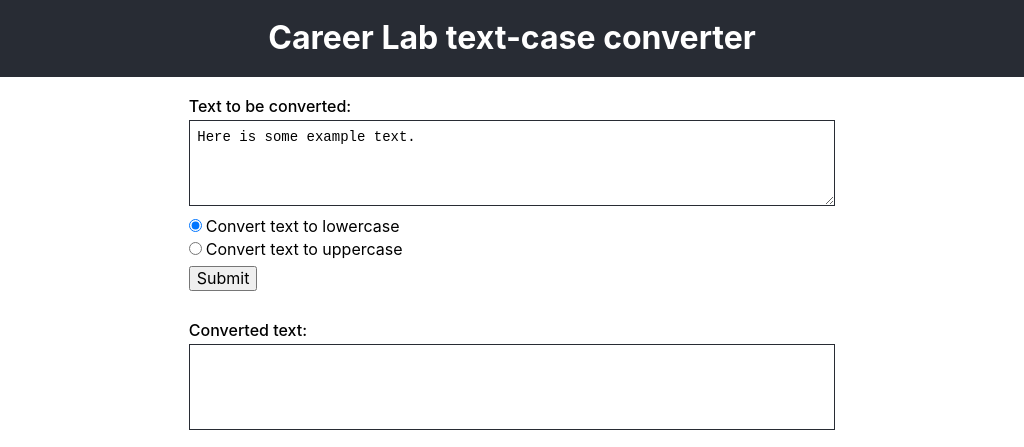
Test: Text-case coverter › should convert the input string into lowercase
Replace the text in the text box labelled "Text to be converted:" with "This is some text." at (512, 163), box [189,120,835,206]
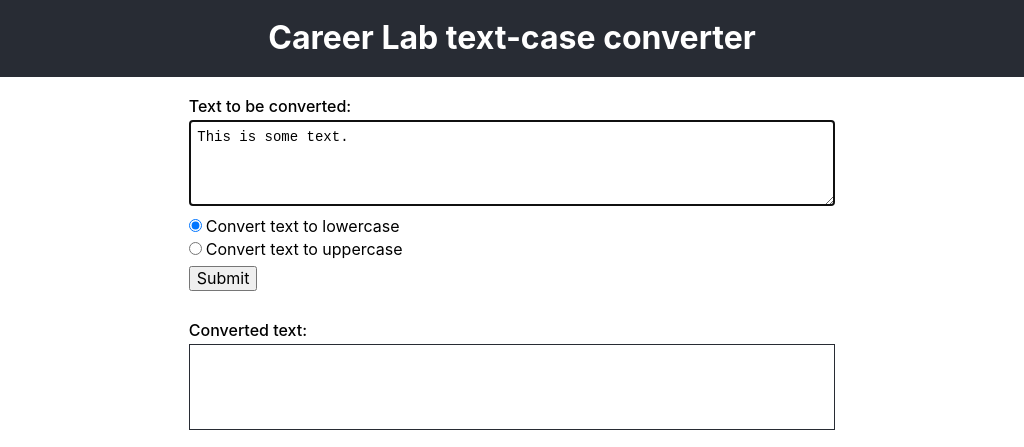
Click the radio button labelled "Convert text to lowercase" at (195, 226), box [189,219,202,232]
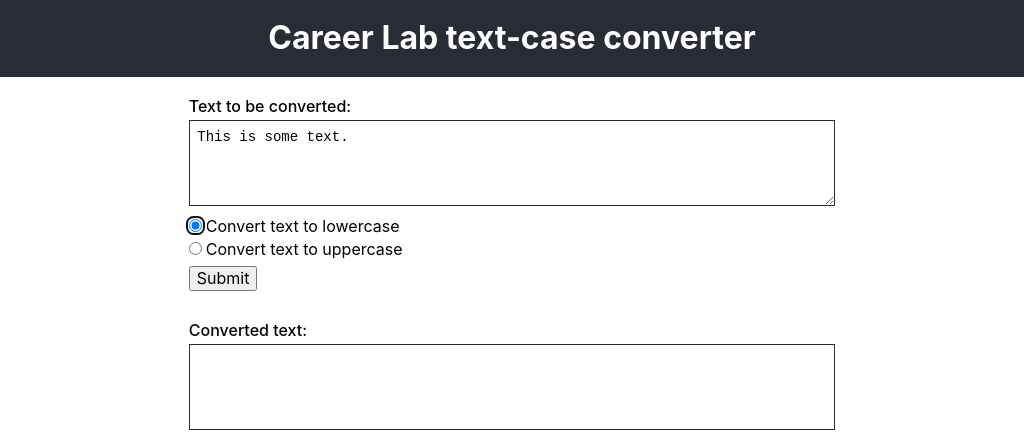
Click the button "Submit" at (223, 279), box [189,266,258,291]
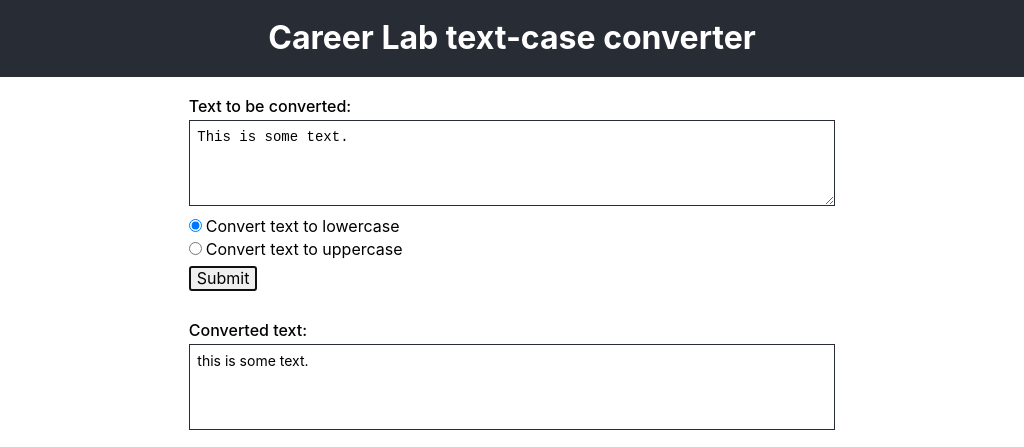
Now the text named "Converted text:" reads "this is some text.", box [197,352,309,369]
